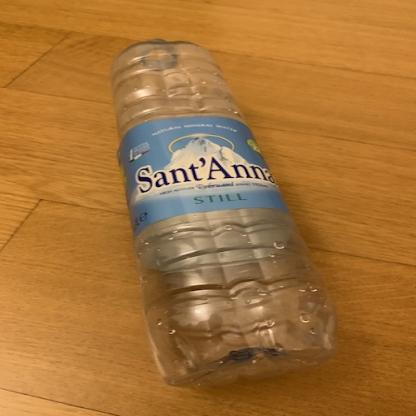trash: (109, 33, 349, 398)
